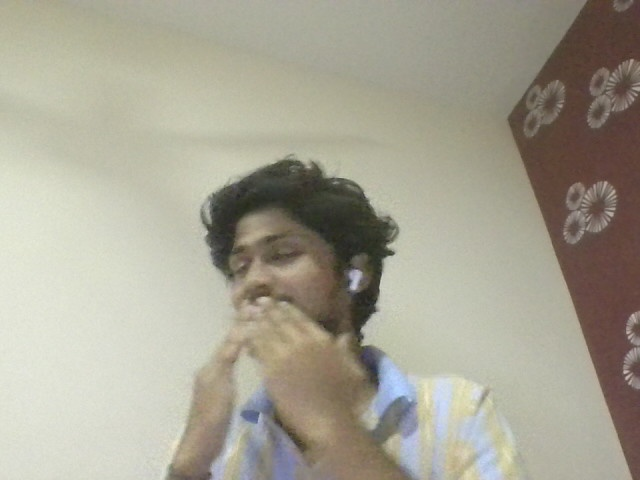Thanks: (193, 297, 365, 447)
